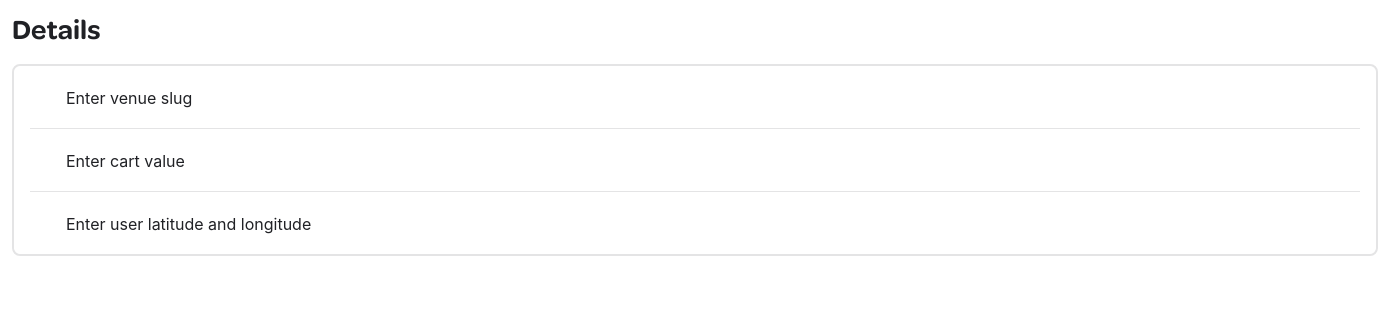
Test case: Venue slug input › sets error when dynamic request fails
Type "test_slug" into the field with test id "venueSlug" at (695, 97), box 14,66 -> 1376,128
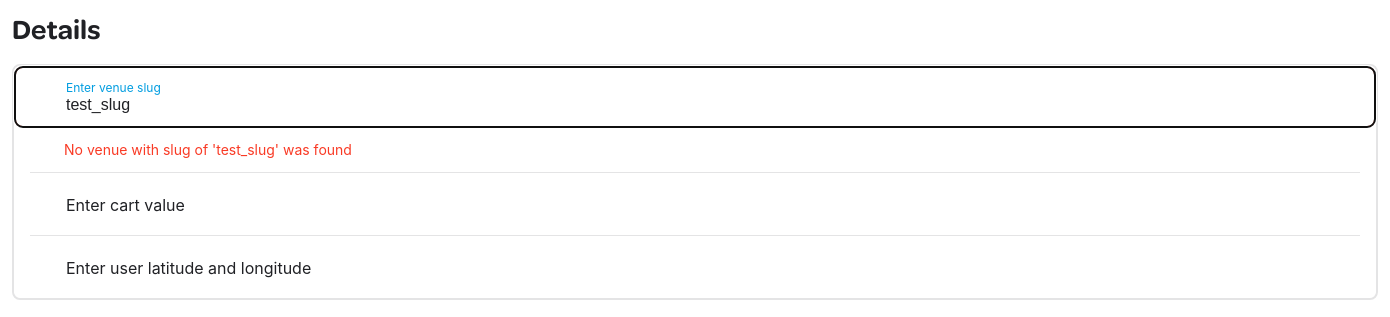
Expected: the text "No venue with slug of 'test_slug' was found" is shown, 64,141 -> 352,158
